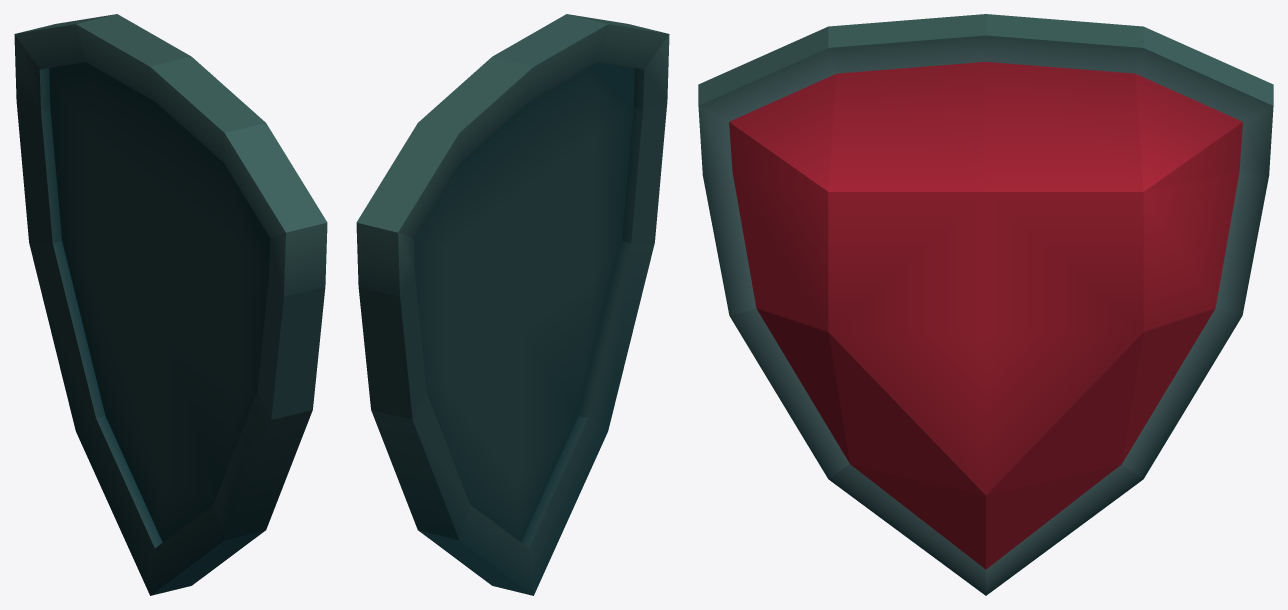
Rendered from Shield.fbx.
3 views of the same model, side by side, from view 1: azimuth 30°, elevation 25°; view 2: azimuth 150°, elevation 25°; view 3: azimuth 270°, elevation 25° (orthographic). The views are drawn at different scales.
Visible parts, largest first — view 1: Defense Shield; view 2: Defense Shield; view 3: Defense Shield.
Boxes of the visible parts, x1,y1,x2,y2 form: Defense Shield: [14, 14, 327, 595]; Defense Shield: [356, 14, 669, 595]; Defense Shield: [698, 14, 1273, 595].
Size of the model in its own units: 15.26 by 105 by 98.06.
